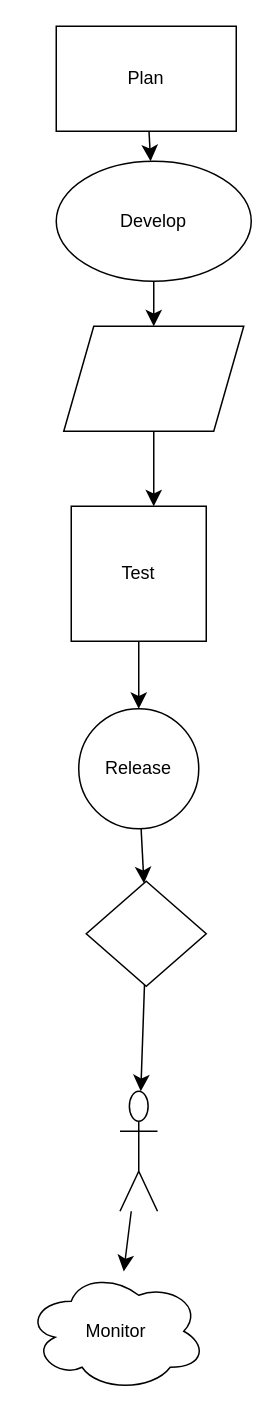
The diagram is 278 pixels wide and 1418 high, and some of its shapes have lost their labels. Each missing label, with the box of its shape:
Actor: (118, 1090, 158, 1211)
Build: (62, 325, 244, 431)
Display: (85, 880, 206, 986)
